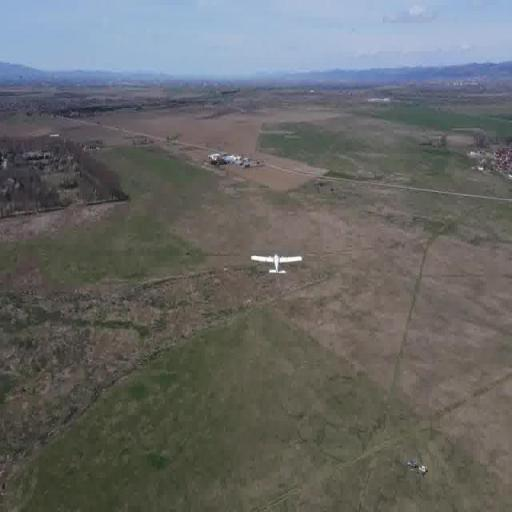uav: (249, 246, 305, 282)
